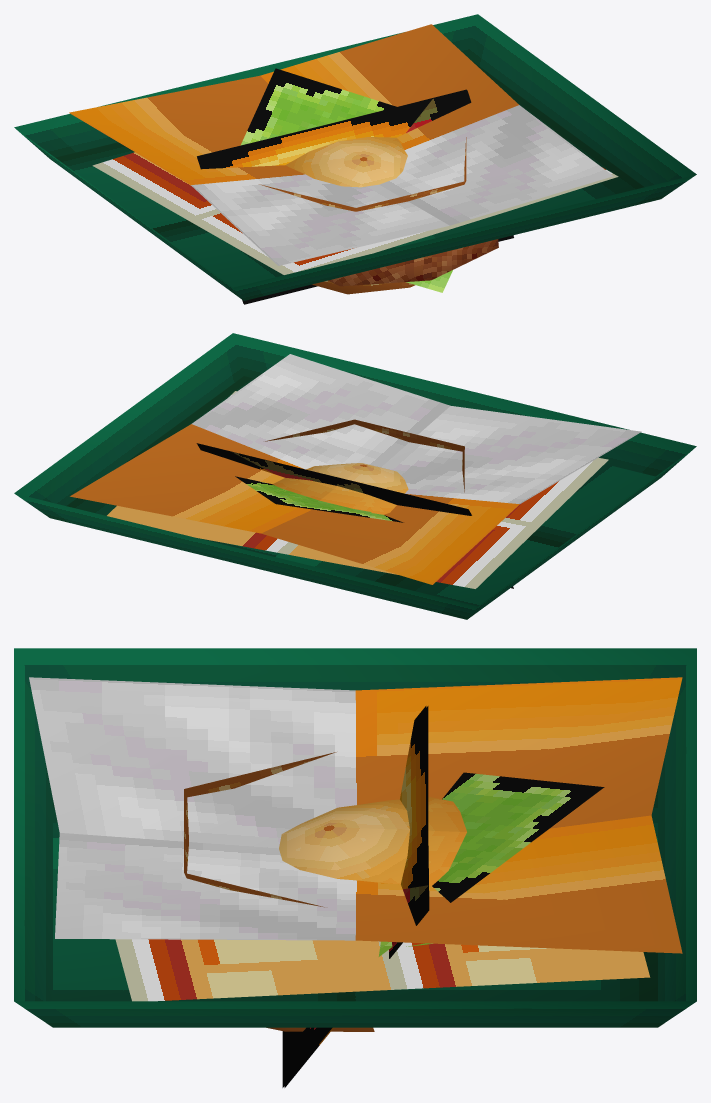
The picture shows the model from 3 angles, top to bottom: view 1: azimuth 30°, elevation 25°; view 2: azimuth 150°, elevation 25°; view 3: azimuth 270°, elevation 25°; orthographic projection. The views are drawn at different scales.
Visible parts, largest first — view 1: hamburger; view 2: hamburger; view 3: hamburger.
Part boxes in pixels (<box>): hamburger: <box>14,14,696,304</box>; hamburger: <box>14,333,696,619</box>; hamburger: <box>14,648,696,1087</box>.
Size of the model in its own units: 0.8081 by 0.2126 by 0.6606.
8 materials, 8 textured.
